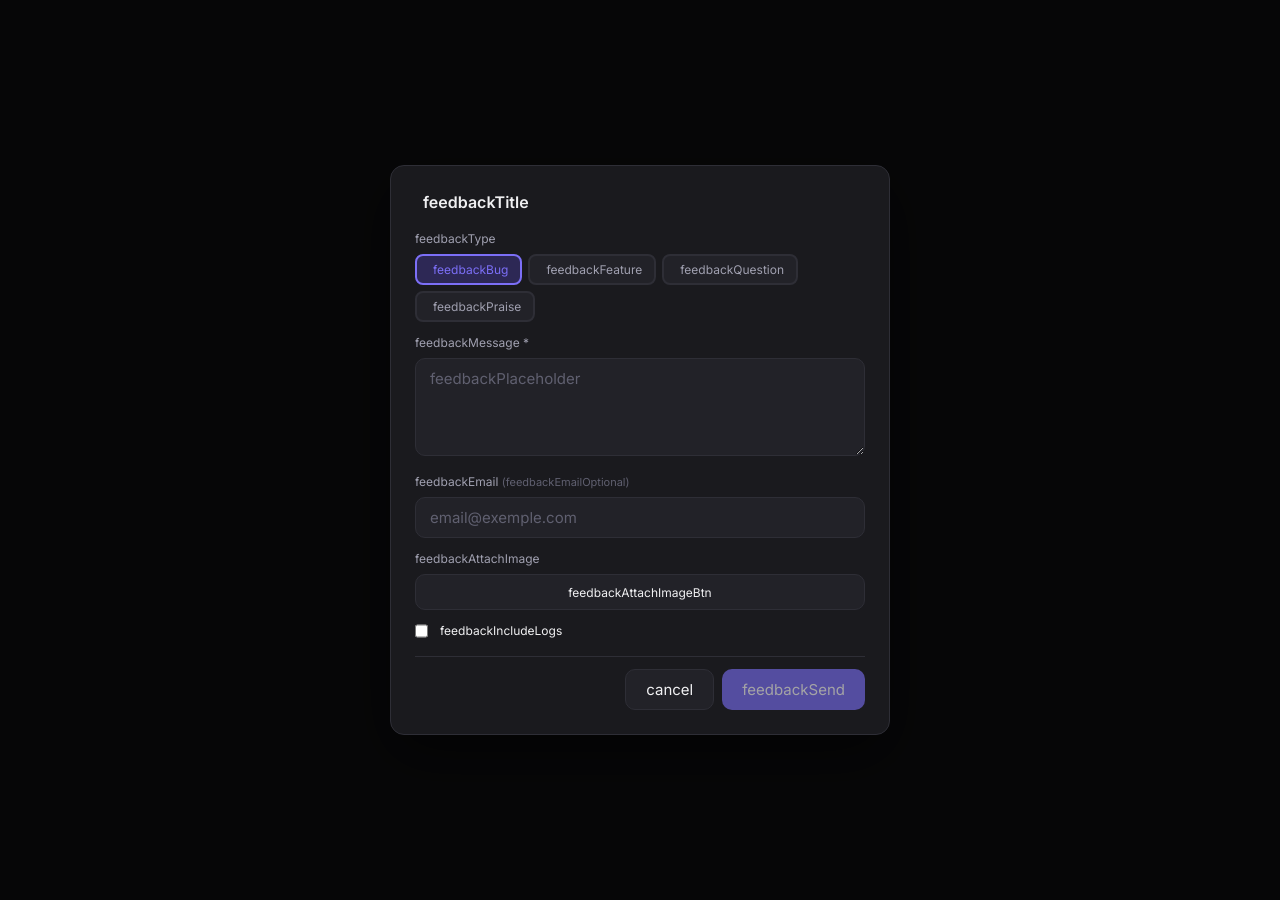
FeedbackModal > Pièce jointe image › erreur si exception openImageDialog
Click the button "feedbackAttachImageBtn" at coordinates (640, 592), box [415,574,865,610]
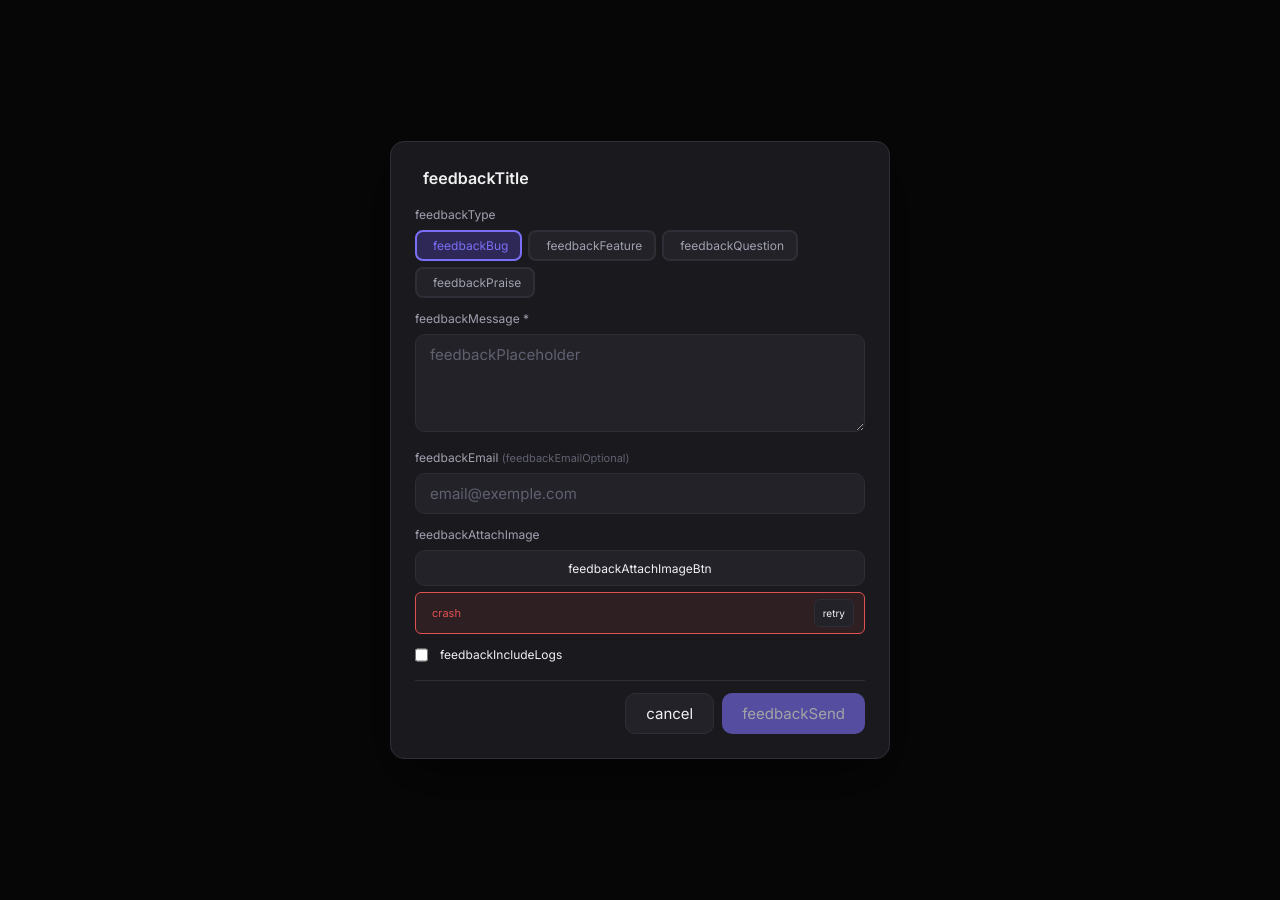
Result: the text "crash" is shown at [432,606,461,620]
